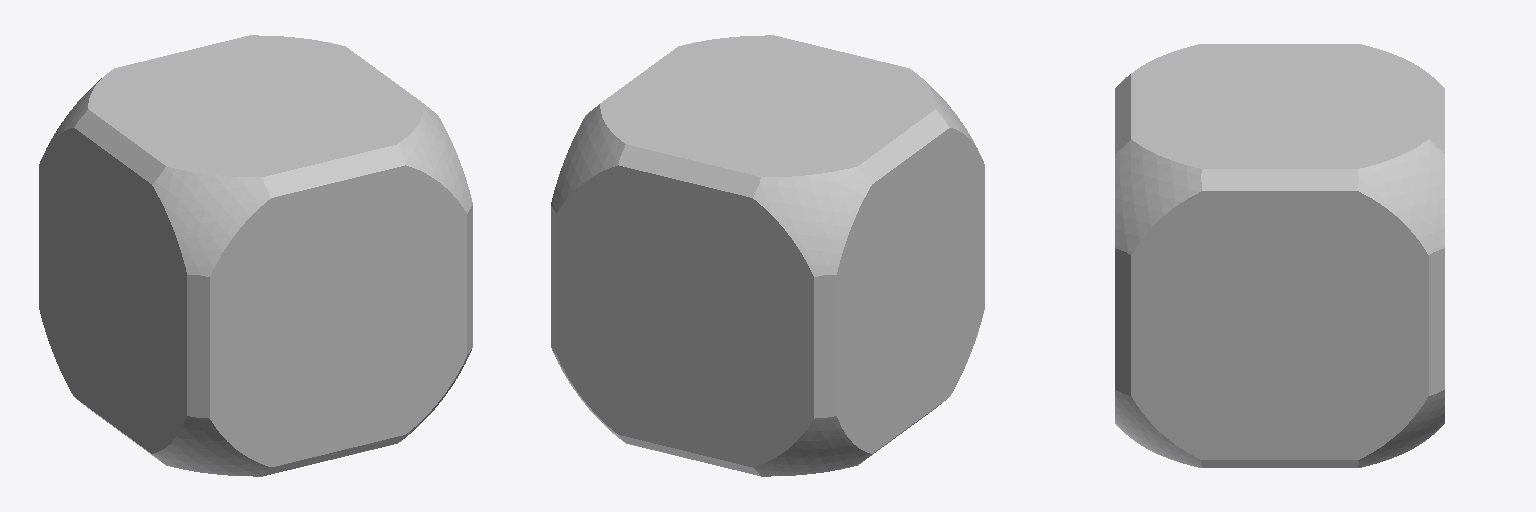
Rendered from dice.obj.
3 views of the same model, side by side, from view 1: azimuth 30°, elevation 25°; view 2: azimuth 150°, elevation 25°; view 3: azimuth 270°, elevation 25° (orthographic).
Parts seen in each view (by area): view 1: Icosphere; view 2: Icosphere; view 3: Icosphere.
Part boxes in pixels (x1,y1,x2,y2): Icosphere: (39,35,472,476); Icosphere: (551,35,984,476); Icosphere: (1115,44,1444,467).
Bounding box in the file's own units: 1.4 × 1.4 × 1.4.